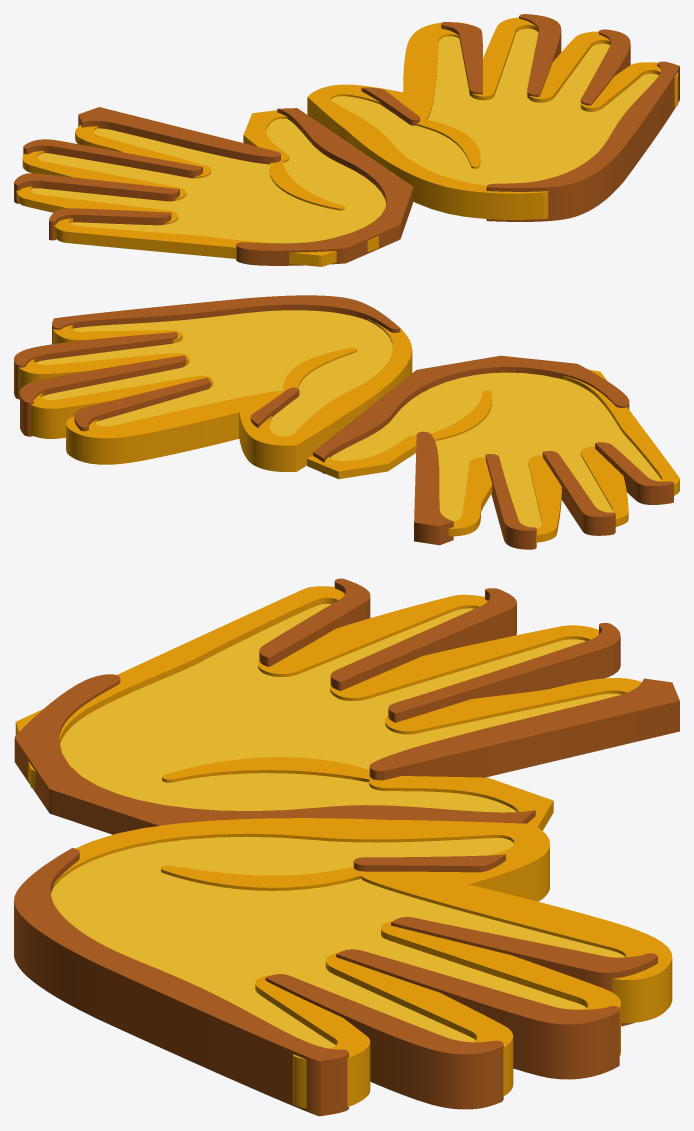
Rendered from emoji_u1f450.glb.
3 views of the same model, one above another, from view 1: azimuth 30°, elevation 25°; view 2: azimuth 150°, elevation 25°; view 3: azimuth 270°, elevation 25° (orthographic). The views are drawn at different scales.
Parts seen in each view (by area): view 1: emoji_u1f450; view 2: emoji_u1f450; view 3: emoji_u1f450.
Part boxes in pixels (bbox=[...]): emoji_u1f450: bbox=[14, 14, 679, 266]; emoji_u1f450: bbox=[14, 295, 679, 549]; emoji_u1f450: bbox=[14, 578, 679, 1116].
Bounding box in the file's own units: 0.0347 × 0.0018 × 0.0197.
